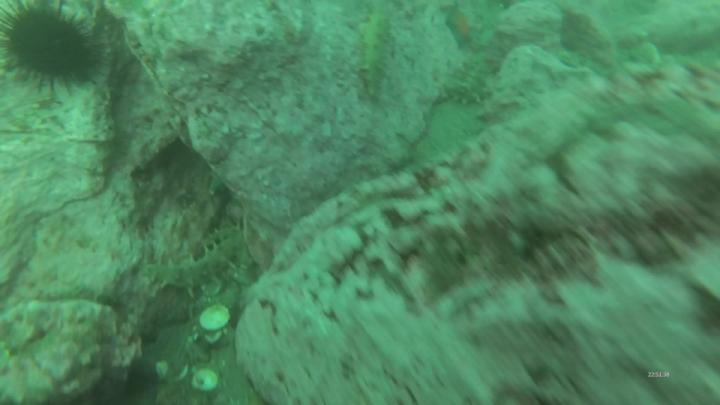echinus: (4, 11, 98, 81)
holothurian: (141, 230, 246, 292), (360, 16, 385, 91), (443, 62, 486, 104)
scallop: (200, 306, 230, 331), (193, 370, 219, 392)
starfish: (450, 8, 472, 46)
